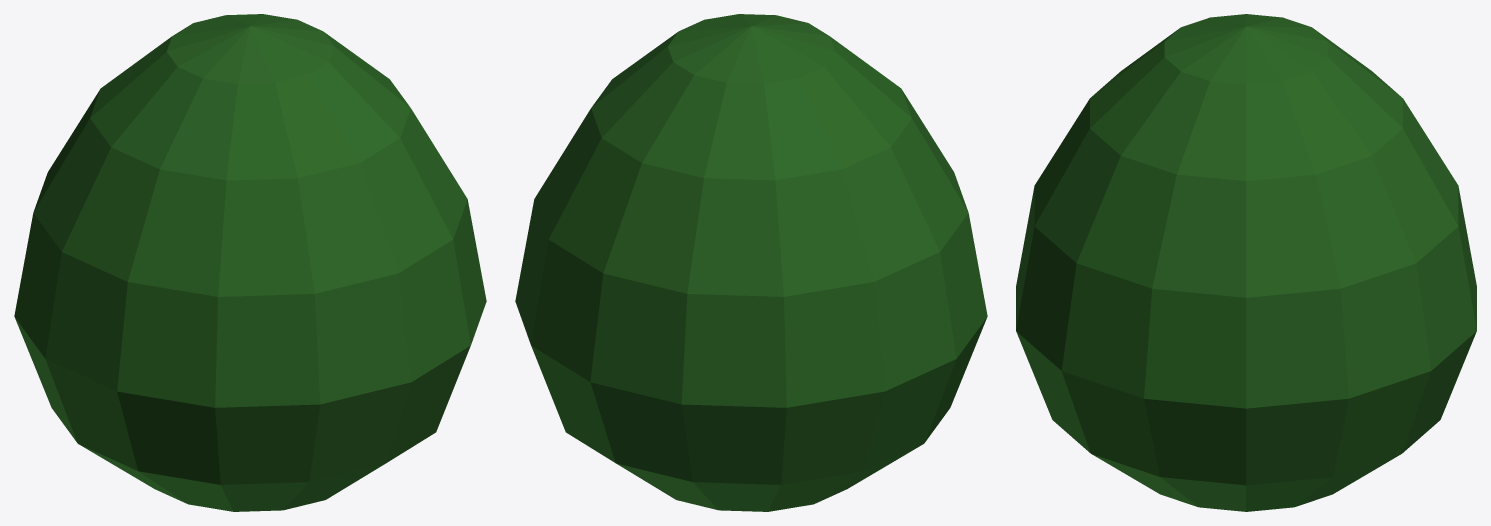
The model's file is Bush.fbx.
The picture shows the model from 3 angles, left to right: view 1: azimuth 30°, elevation 25°; view 2: azimuth 150°, elevation 25°; view 3: azimuth 270°, elevation 25°; orthographic projection.
Visible parts, largest first — view 1: Bush; view 2: Bush; view 3: Bush.
Boxes of the visible parts, x1=… form: Bush: x1=14, y1=14, x2=486, y2=511; Bush: x1=515, y1=14, x2=987, y2=511; Bush: x1=1016, y1=14, x2=1476, y2=511.
Bounding box in the file's own units: 186 × 200 × 181.
